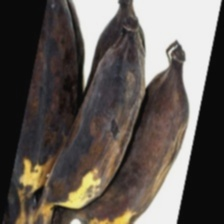banana: (46, 29, 220, 197)
